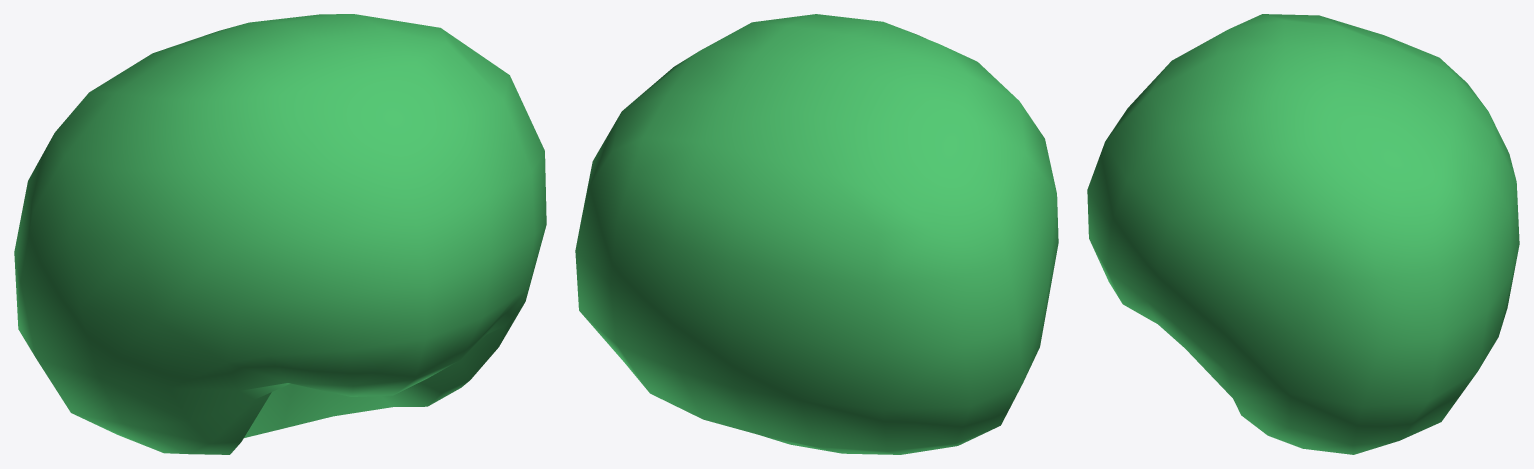
Rendered from Disco_Hairs_03.fbx.
3 views of the same model, side by side, from view 1: azimuth 30°, elevation 25°; view 2: azimuth 150°, elevation 25°; view 3: azimuth 270°, elevation 25° (orthographic). The views are drawn at different scales.
Visible parts, largest first — view 1: Disco_Hairs_03; view 2: Disco_Hairs_03; view 3: Disco_Hairs_03.
Part boxes in pixels (bbox=[...]): Disco_Hairs_03: bbox=[14, 14, 546, 454]; Disco_Hairs_03: bbox=[575, 14, 1058, 454]; Disco_Hairs_03: bbox=[1087, 14, 1519, 454].
Bounding box in the file's own units: 118 × 97.16 × 104.
